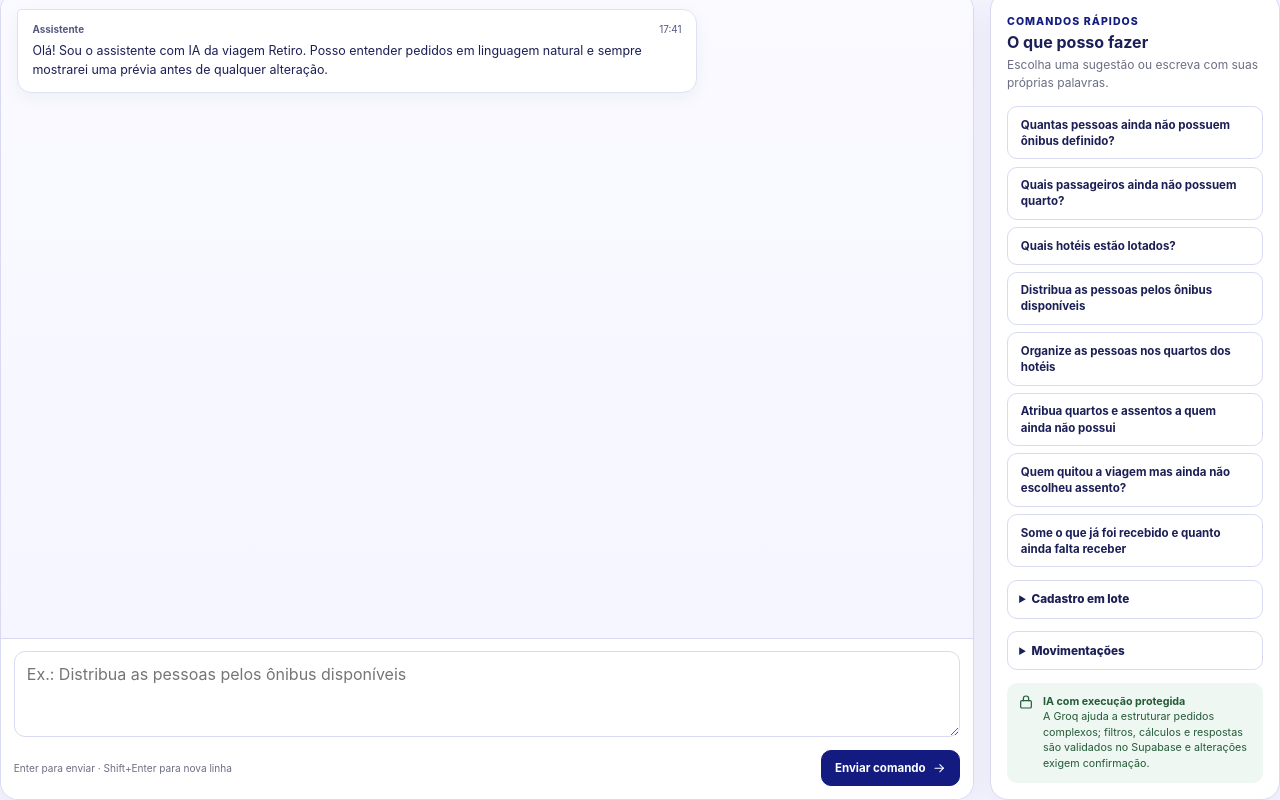
Test case: AdminAssistantPage › mostra respostas conversacionais da IA sem pedir uma operação
The image size is (1280, 800).
(page scrolled)
Type "Liste os viajantes da viagem" into the text box named "Solicitação ao assistente" at [487, 694], box 14,652 -> 960,738
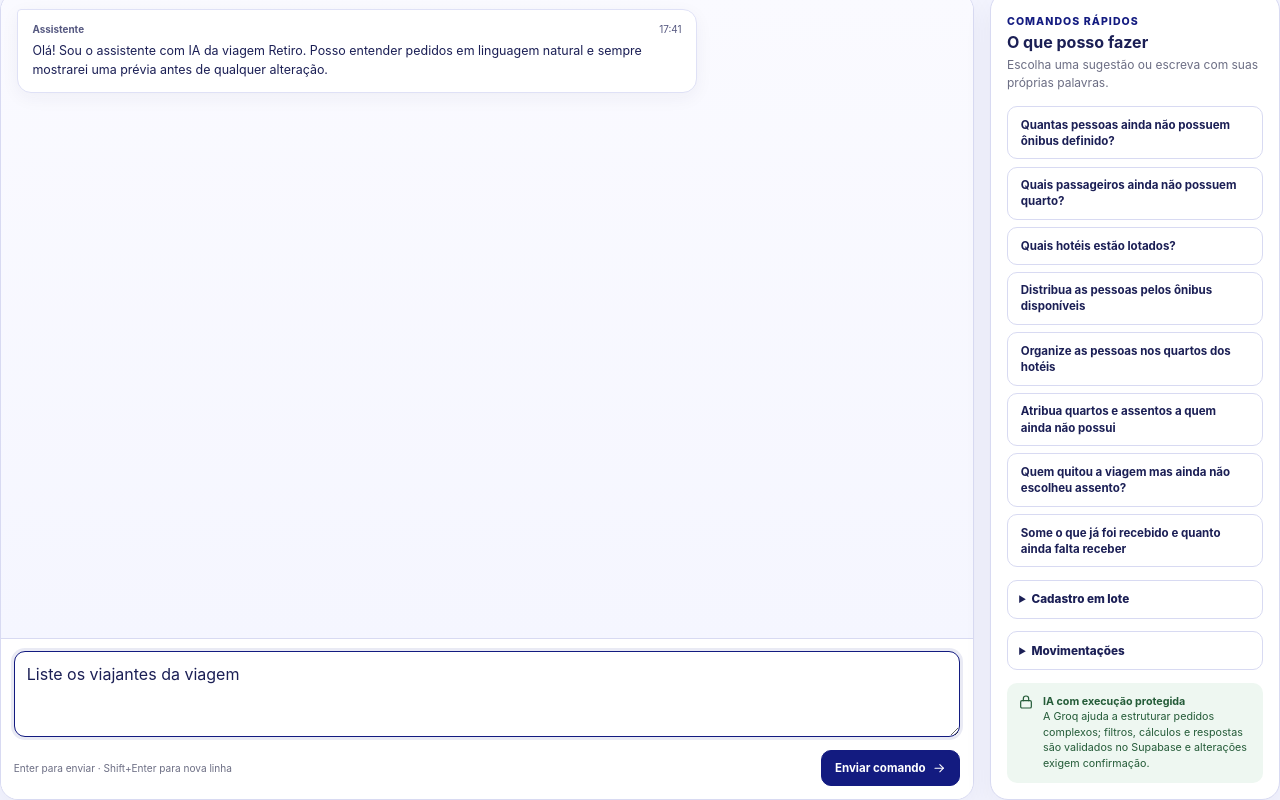
Click the button "Enviar comando" at [891, 768], box 821,750 -> 960,786
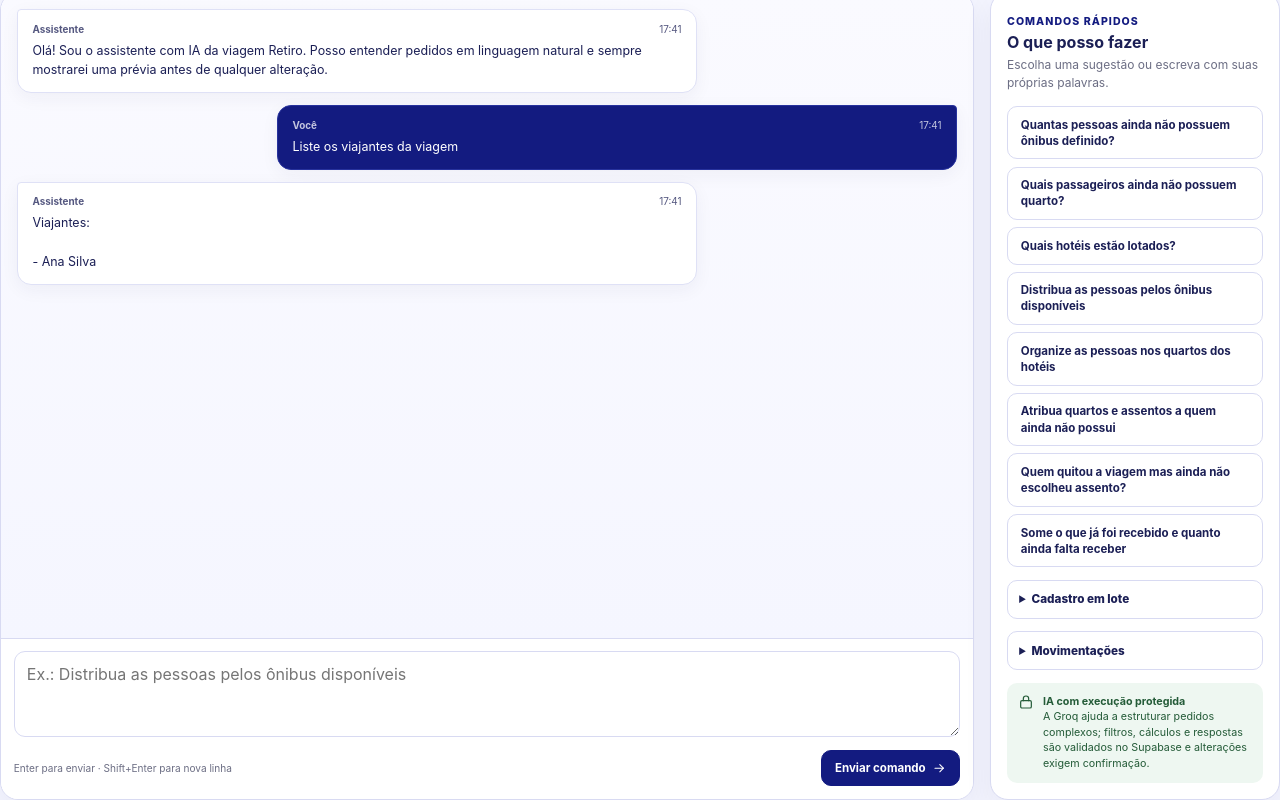
Now the text "Viajantes: - Ana Silva" is shown, box 32,215 -> 96,269
